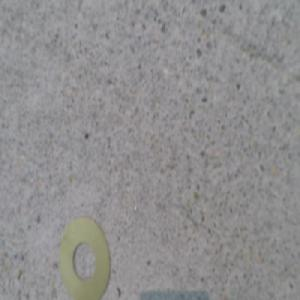Washer: (60, 213, 111, 299)
